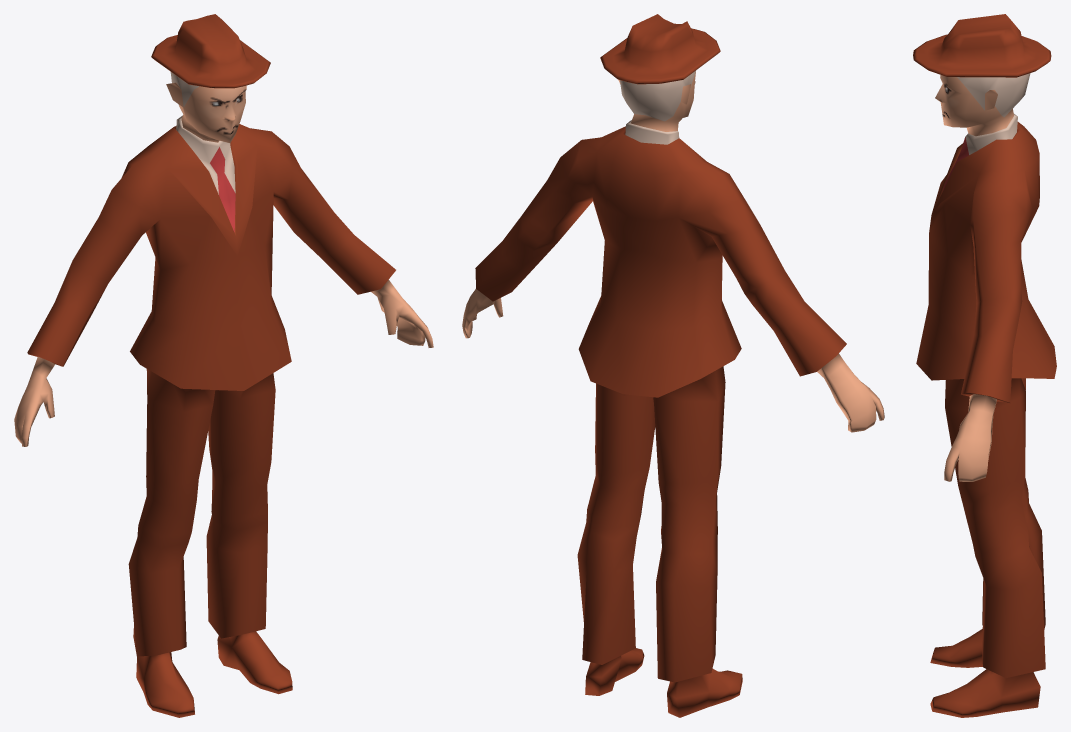
Rendered from CharGoon.fbx.
3 renders of one model, left to right at view 1: azimuth 30°, elevation 25°; view 2: azimuth 150°, elevation 25°; view 3: azimuth 270°, elevation 25°, orthographic.
Visible parts, largest first — view 1: CharGoon; view 2: CharGoon; view 3: CharGoon.
Boxes of the visible parts, bbox=[...] form: CharGoon: bbox=[14, 14, 433, 717]; CharGoon: bbox=[462, 14, 884, 717]; CharGoon: bbox=[913, 14, 1056, 717].
Size of the model in its own units: 120 by 184 by 36.2.
